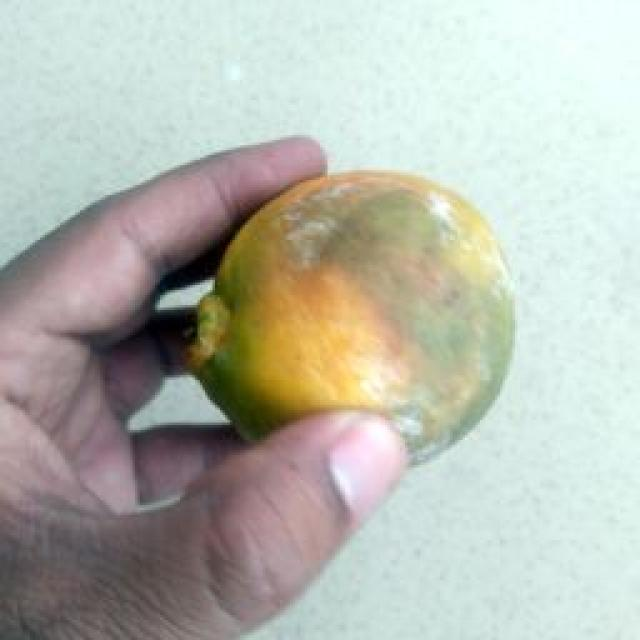Bad_Orange: (194, 171, 514, 462)
